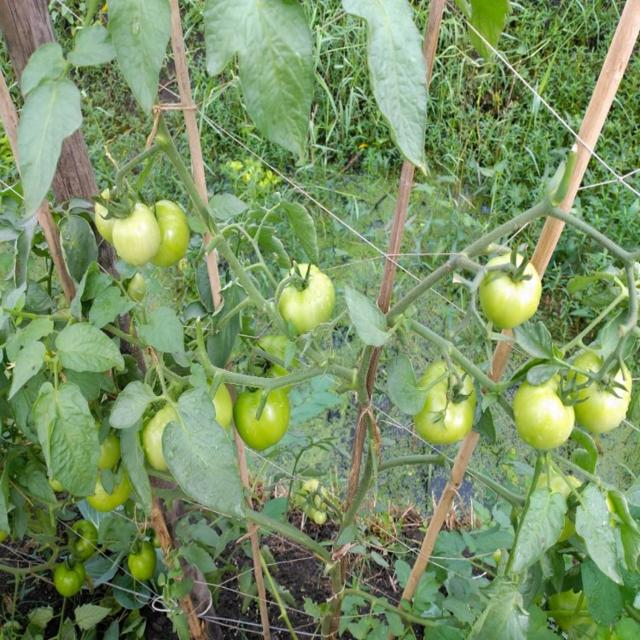tomato: (569, 353, 634, 429), (516, 381, 575, 447), (485, 256, 541, 325), (423, 361, 471, 439), (236, 393, 291, 454), (284, 270, 334, 336), (153, 198, 192, 270), (116, 209, 156, 267), (251, 334, 292, 378), (145, 408, 171, 467), (69, 518, 96, 562), (56, 559, 87, 596), (95, 191, 117, 239), (129, 544, 155, 579), (219, 391, 236, 433), (102, 441, 120, 475)
